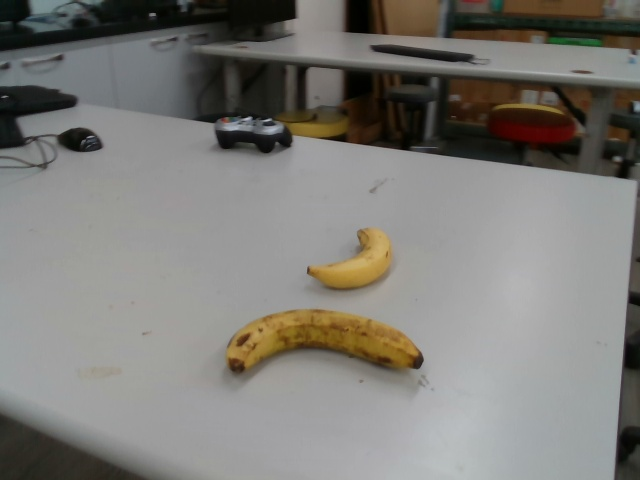banana: (223, 307, 424, 375), (306, 223, 393, 291)
